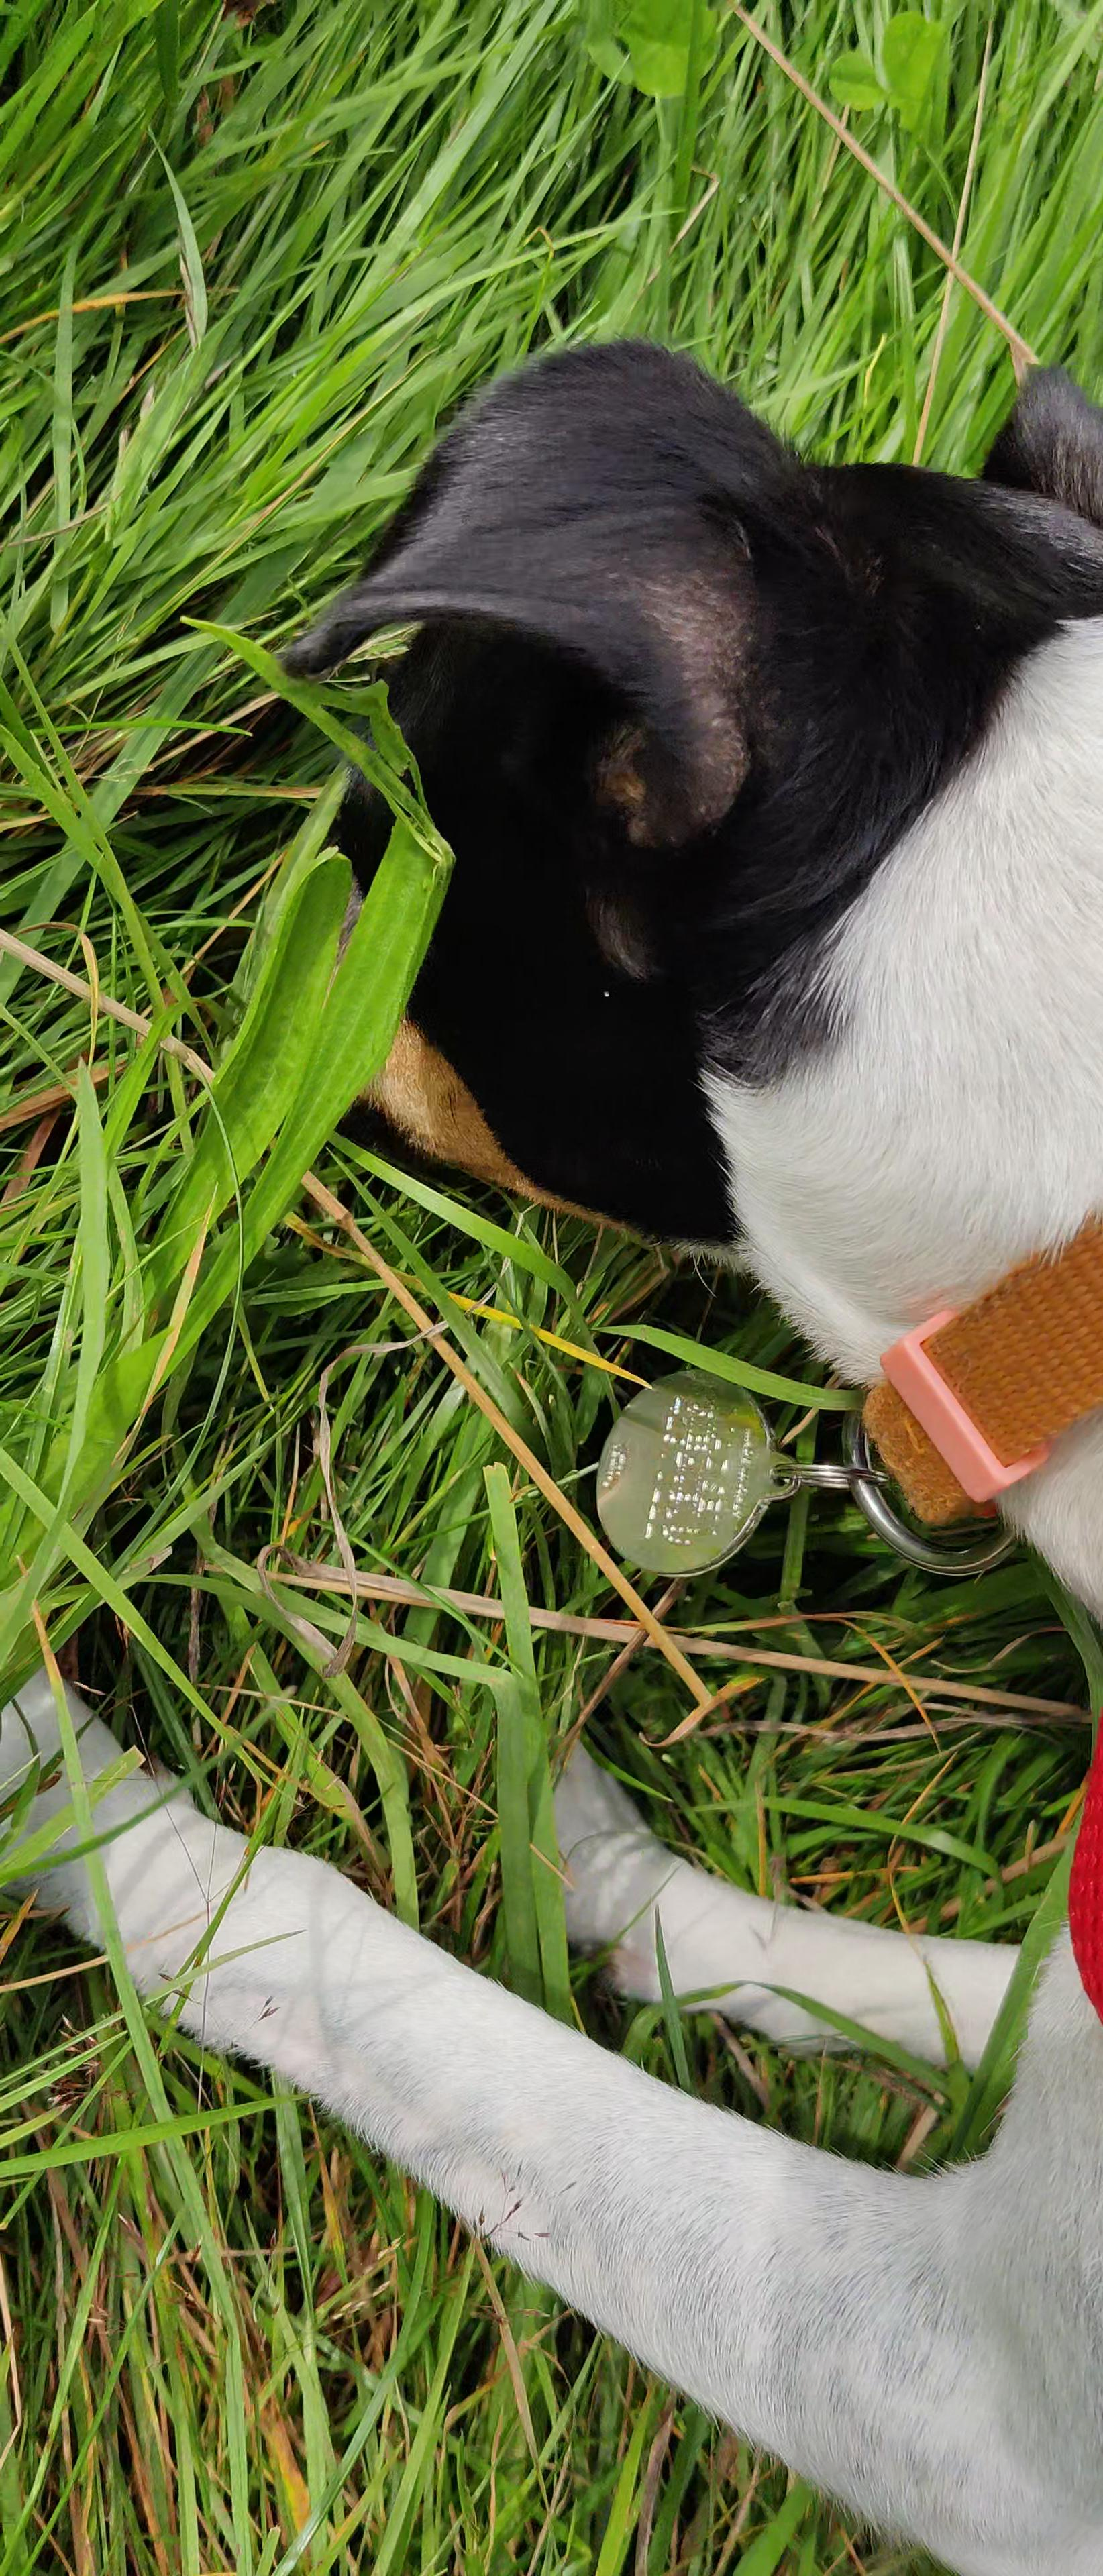Dog: (0, 294, 1103, 2576)
